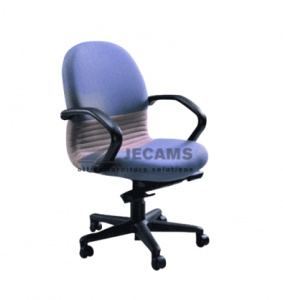chair: (60, 41, 211, 271)
